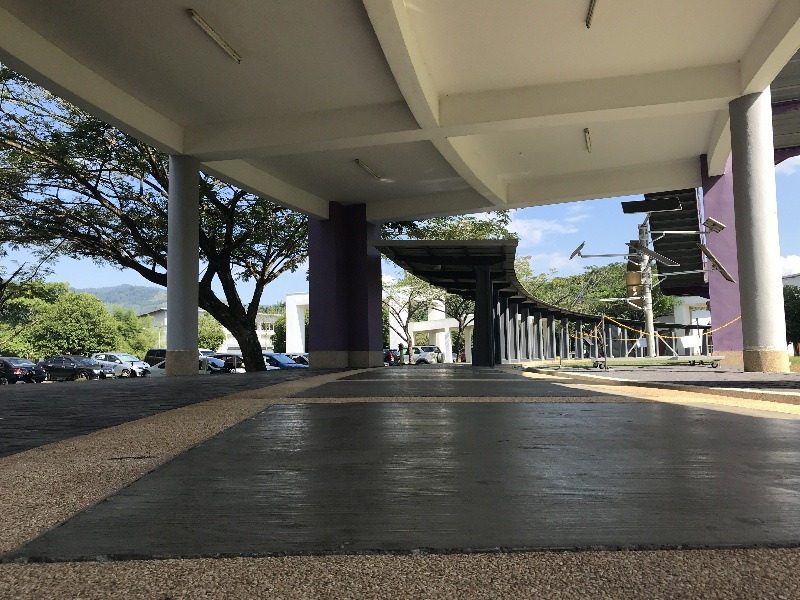Block D Pillar 5: (7, 9, 800, 556)
pillar: (713, 79, 800, 374), (292, 194, 396, 371), (141, 143, 212, 383), (679, 152, 742, 378), (466, 257, 501, 375)
